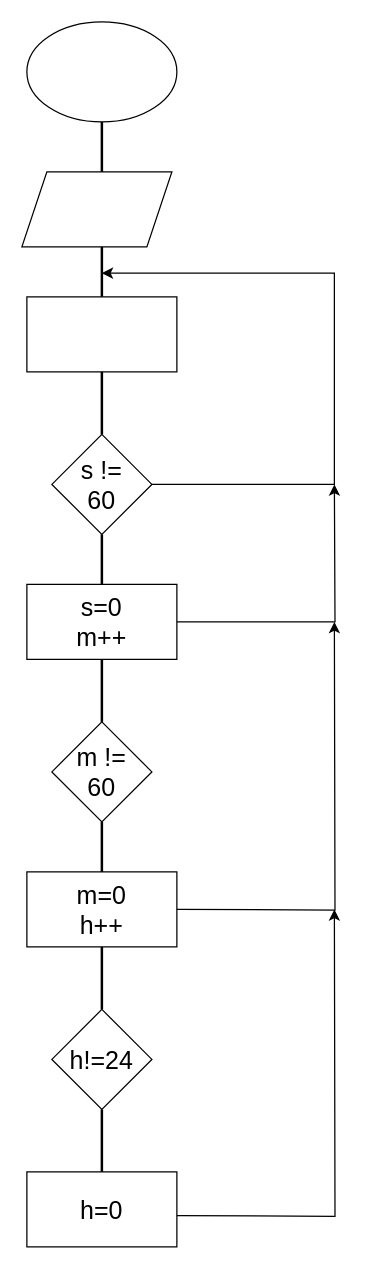
Some shapes in this 368 by 1269 pixel diagram are drawn without their labels. The shapes that lost their labels are listed below. From the top down, each one's centre as x and y in pixels, then its label:
At (101,71): "Empieza el blucle".
At (96,209): "s, m, h".
At (101,334): "s++".
